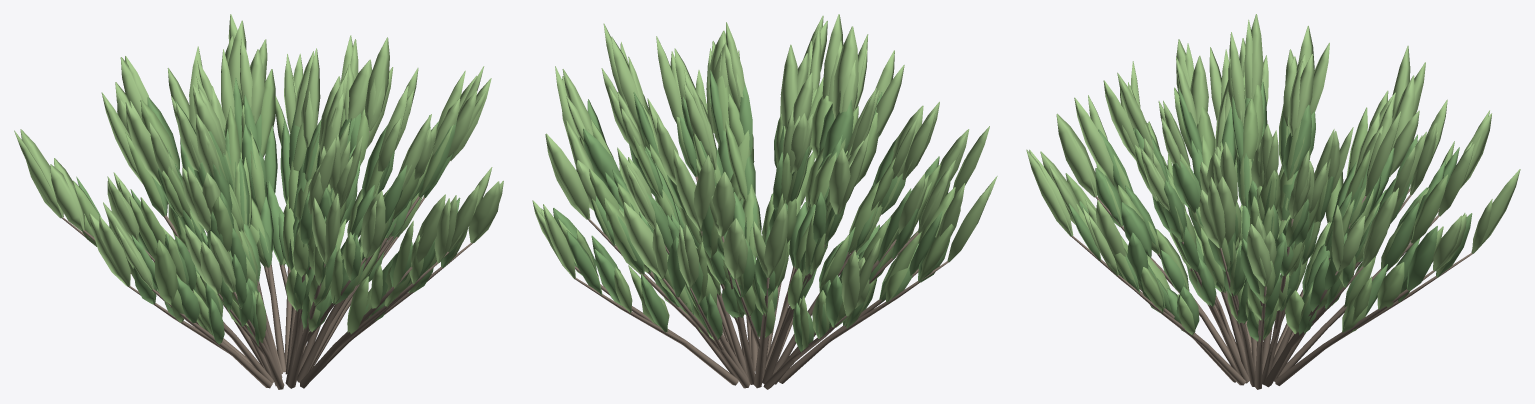
File: chirca_bush_8.glb
The picture shows the model from 3 angles, left to right: view 1: azimuth 30°, elevation 25°; view 2: azimuth 150°, elevation 25°; view 3: azimuth 270°, elevation 25°; orthographic projection. The views are drawn at different scales.
Parts seen in each view (by area): view 1: ChircaFoliageTip, ChircaFoliageMid, ChircaFoliageDeep, ChircaStems; view 2: ChircaFoliageTip, ChircaFoliageDeep, ChircaFoliageMid, ChircaStems; view 3: ChircaFoliageTip, ChircaFoliageDeep, ChircaFoliageMid, ChircaStems.
Boxes of the visible parts, x1=… form: ChircaFoliageTip: x1=14, y1=14, x2=503, y2=293; ChircaFoliageMid: x1=73, y1=69, x2=468, y2=343; ChircaFoliageDeep: x1=76, y1=77, x2=460, y2=346; ChircaStems: x1=62, y1=131, x2=472, y2=389; ChircaFoliageTip: x1=532, y1=14, x2=997, y2=316; ChircaFoliageDeep: x1=553, y1=70, x2=950, y2=352; ChircaFoliageMid: x1=557, y1=75, x2=955, y2=350; ChircaStems: x1=574, y1=135, x2=948, y2=389; ChircaFoliageTip: x1=1026, y1=14, x2=1520, y2=286; ChircaFoliageDeep: x1=1068, y1=82, x2=1472, y2=341; ChircaFoliageMid: x1=1065, y1=75, x2=1465, y2=342; ChircaStems: x1=1071, y1=188, x2=1472, y2=389.
Size of the model in its own units: 2.51 by 1.81 by 2.62.
